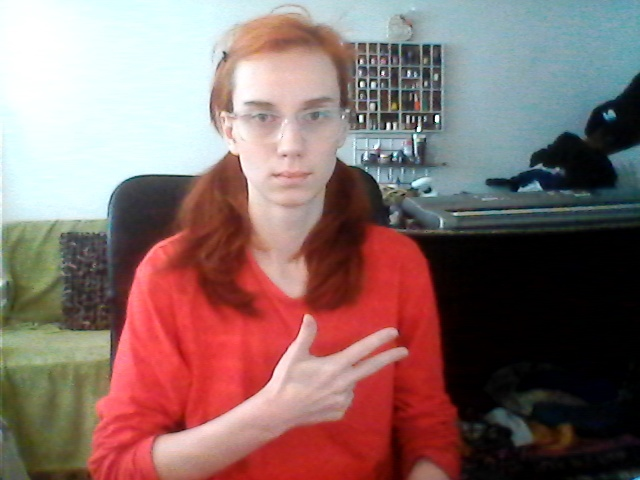tri: (267, 309, 409, 425)
